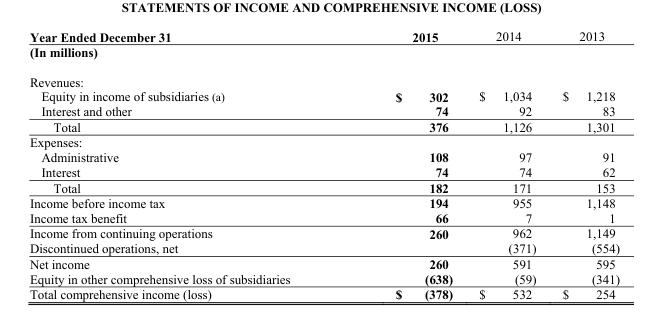table: (28, 28, 618, 301)
table column: (28, 28, 342, 301), (342, 28, 465, 301), (465, 28, 548, 301), (548, 28, 618, 301)
table column header: (28, 28, 618, 43)
table projected row header: (28, 43, 618, 66), (28, 66, 618, 88), (28, 134, 618, 149)
table row: (28, 43, 618, 66), (28, 66, 618, 88), (28, 118, 618, 134), (28, 179, 618, 195), (28, 270, 618, 286), (28, 28, 618, 43), (28, 88, 618, 103), (28, 103, 618, 118), (28, 134, 618, 149), (28, 149, 618, 164), (28, 164, 618, 179), (28, 195, 618, 210), (28, 210, 618, 225), (28, 225, 618, 240), (28, 240, 618, 255), (28, 255, 618, 270), (28, 286, 618, 301)
